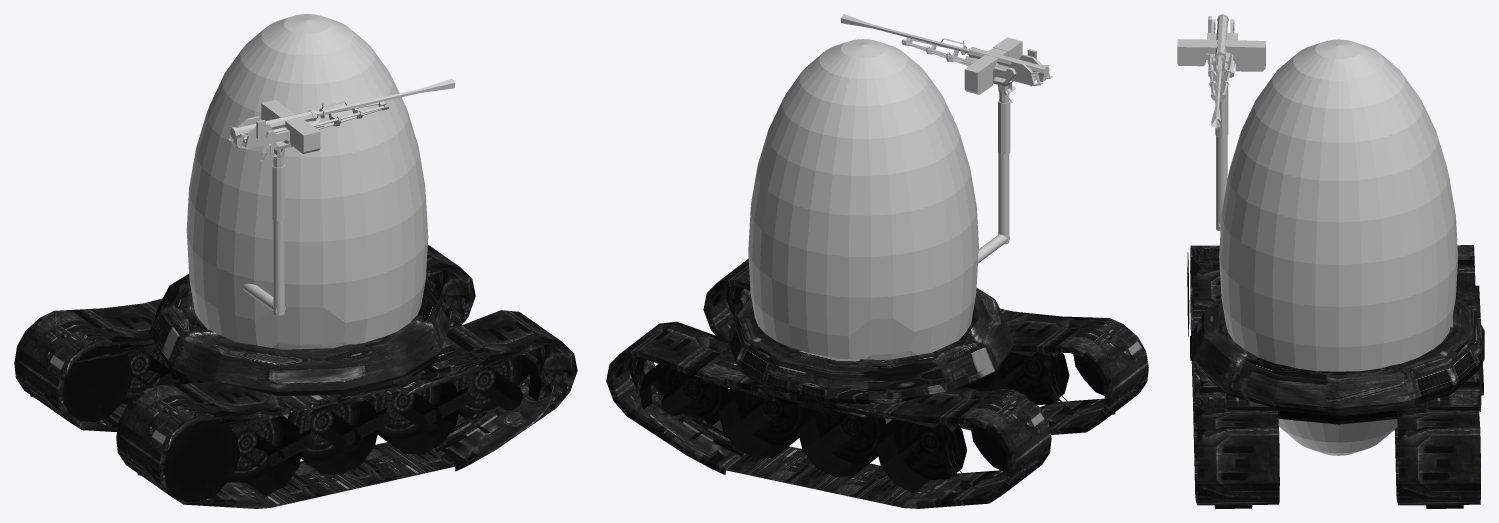
Rendered from playermodel.obj.
3 views of the same model, side by side, from view 1: azimuth 30°, elevation 25°; view 2: azimuth 150°, elevation 25°; view 3: azimuth 270°, elevation 25° (orthographic). The views are drawn at different scales.
Parts seen in each view (by area): view 1: Sphere, Track_Left_Object_1.001, Wheels_Left_Object_3.001, turret_Turret_Object_1.001, Wheels_Left_Object_3; view 2: Sphere, Track_Left_Object_1.001, Wheels_Left_Object_3, turret_Turret_Object_1.001, Wheels_Left_Object_3.001; view 3: Sphere, Track_Left_Object_1.001, turret_Turret_Object_1.001, Wheels_Left_Object_3.001.
Boxes of the visible parts, box(x1,y1,x2,y2) form: Sphere: box(186, 14, 428, 418); Track_Left_Object_1.001: box(14, 245, 577, 508); Wheels_Left_Object_3.001: box(130, 354, 541, 502); turret_Turret_Object_1.001: box(227, 78, 454, 315); Wheels_Left_Object_3: box(22, 283, 430, 422); Sphere: box(748, 39, 978, 423); Track_Left_Object_1.001: box(606, 258, 1148, 508); Wheels_Left_Object_3: box(639, 364, 1020, 493); turret_Turret_Object_1.001: box(841, 14, 1052, 263); Wheels_Left_Object_3.001: box(745, 298, 1122, 416); Sphere: box(1219, 39, 1457, 455); Track_Left_Object_1.001: box(1190, 245, 1484, 505); turret_Turret_Object_1.001: box(1177, 14, 1265, 231); Wheels_Left_Object_3.001: box(1187, 252, 1252, 508).
Size of the model in its own units: 4.04 by 3.8 by 2.57.
